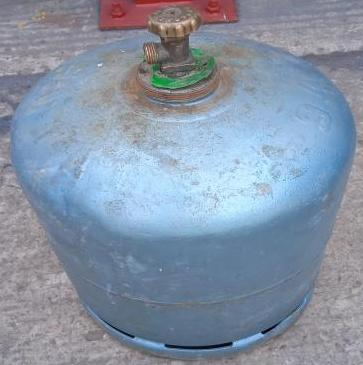cylinder: (1, 1, 363, 365)
